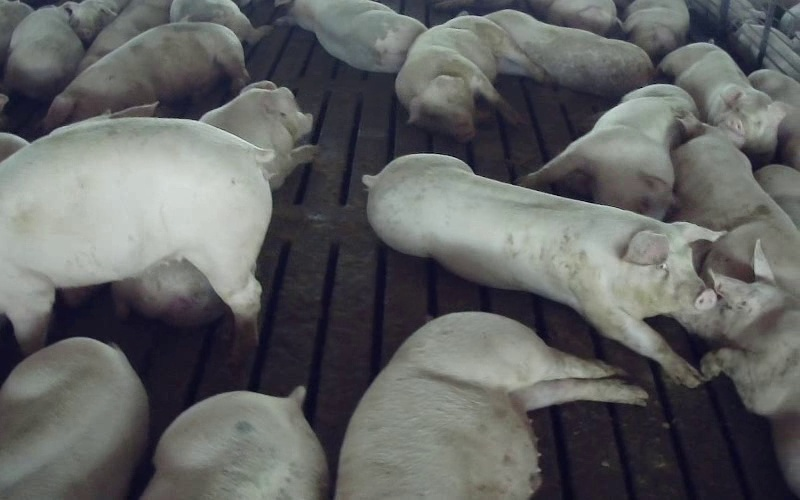pig: (363, 155, 717, 386), (336, 312, 647, 499), (679, 244, 799, 495), (0, 338, 148, 499), (517, 84, 692, 218), (672, 113, 799, 296), (45, 23, 248, 129), (141, 386, 327, 499), (395, 16, 544, 141), (660, 43, 784, 162), (487, 10, 653, 96), (288, 0, 425, 71), (4, 7, 84, 100), (623, 0, 688, 61)
